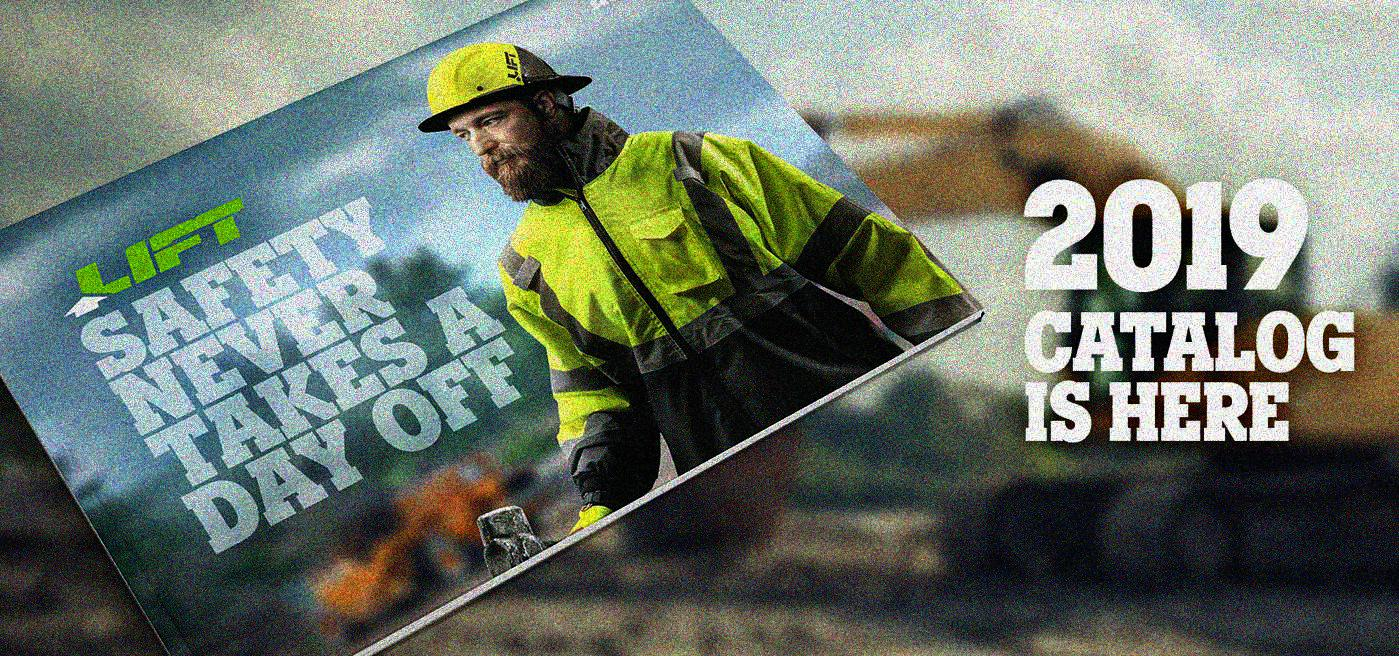helmet: (418, 41, 593, 198)
